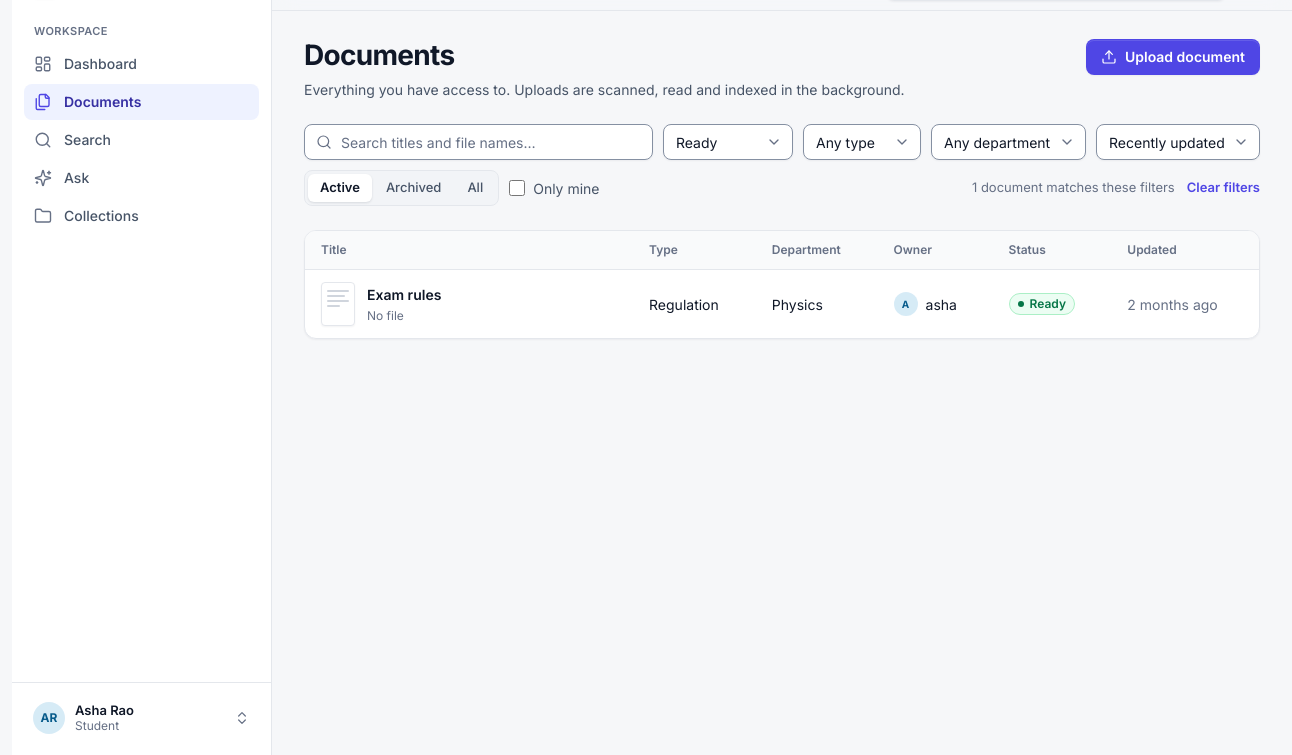
it: documents filters › moves focus to the search field when Clear filters removes itself
Step 1. Click the button "Clear filters" → (1223, 188), box [1187,178,1260,198]
(page scrolled)
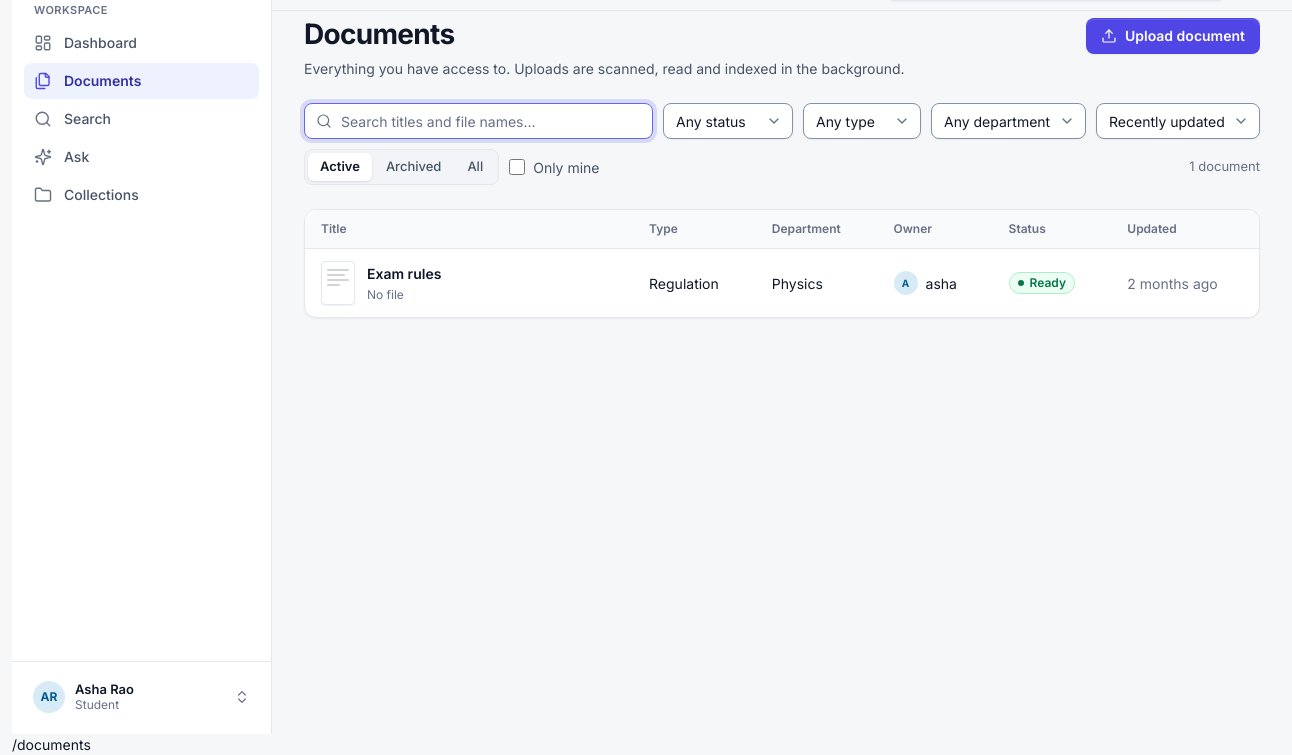
Check: the text with test id "location" reads "/documents", box [12,736,91,753]
